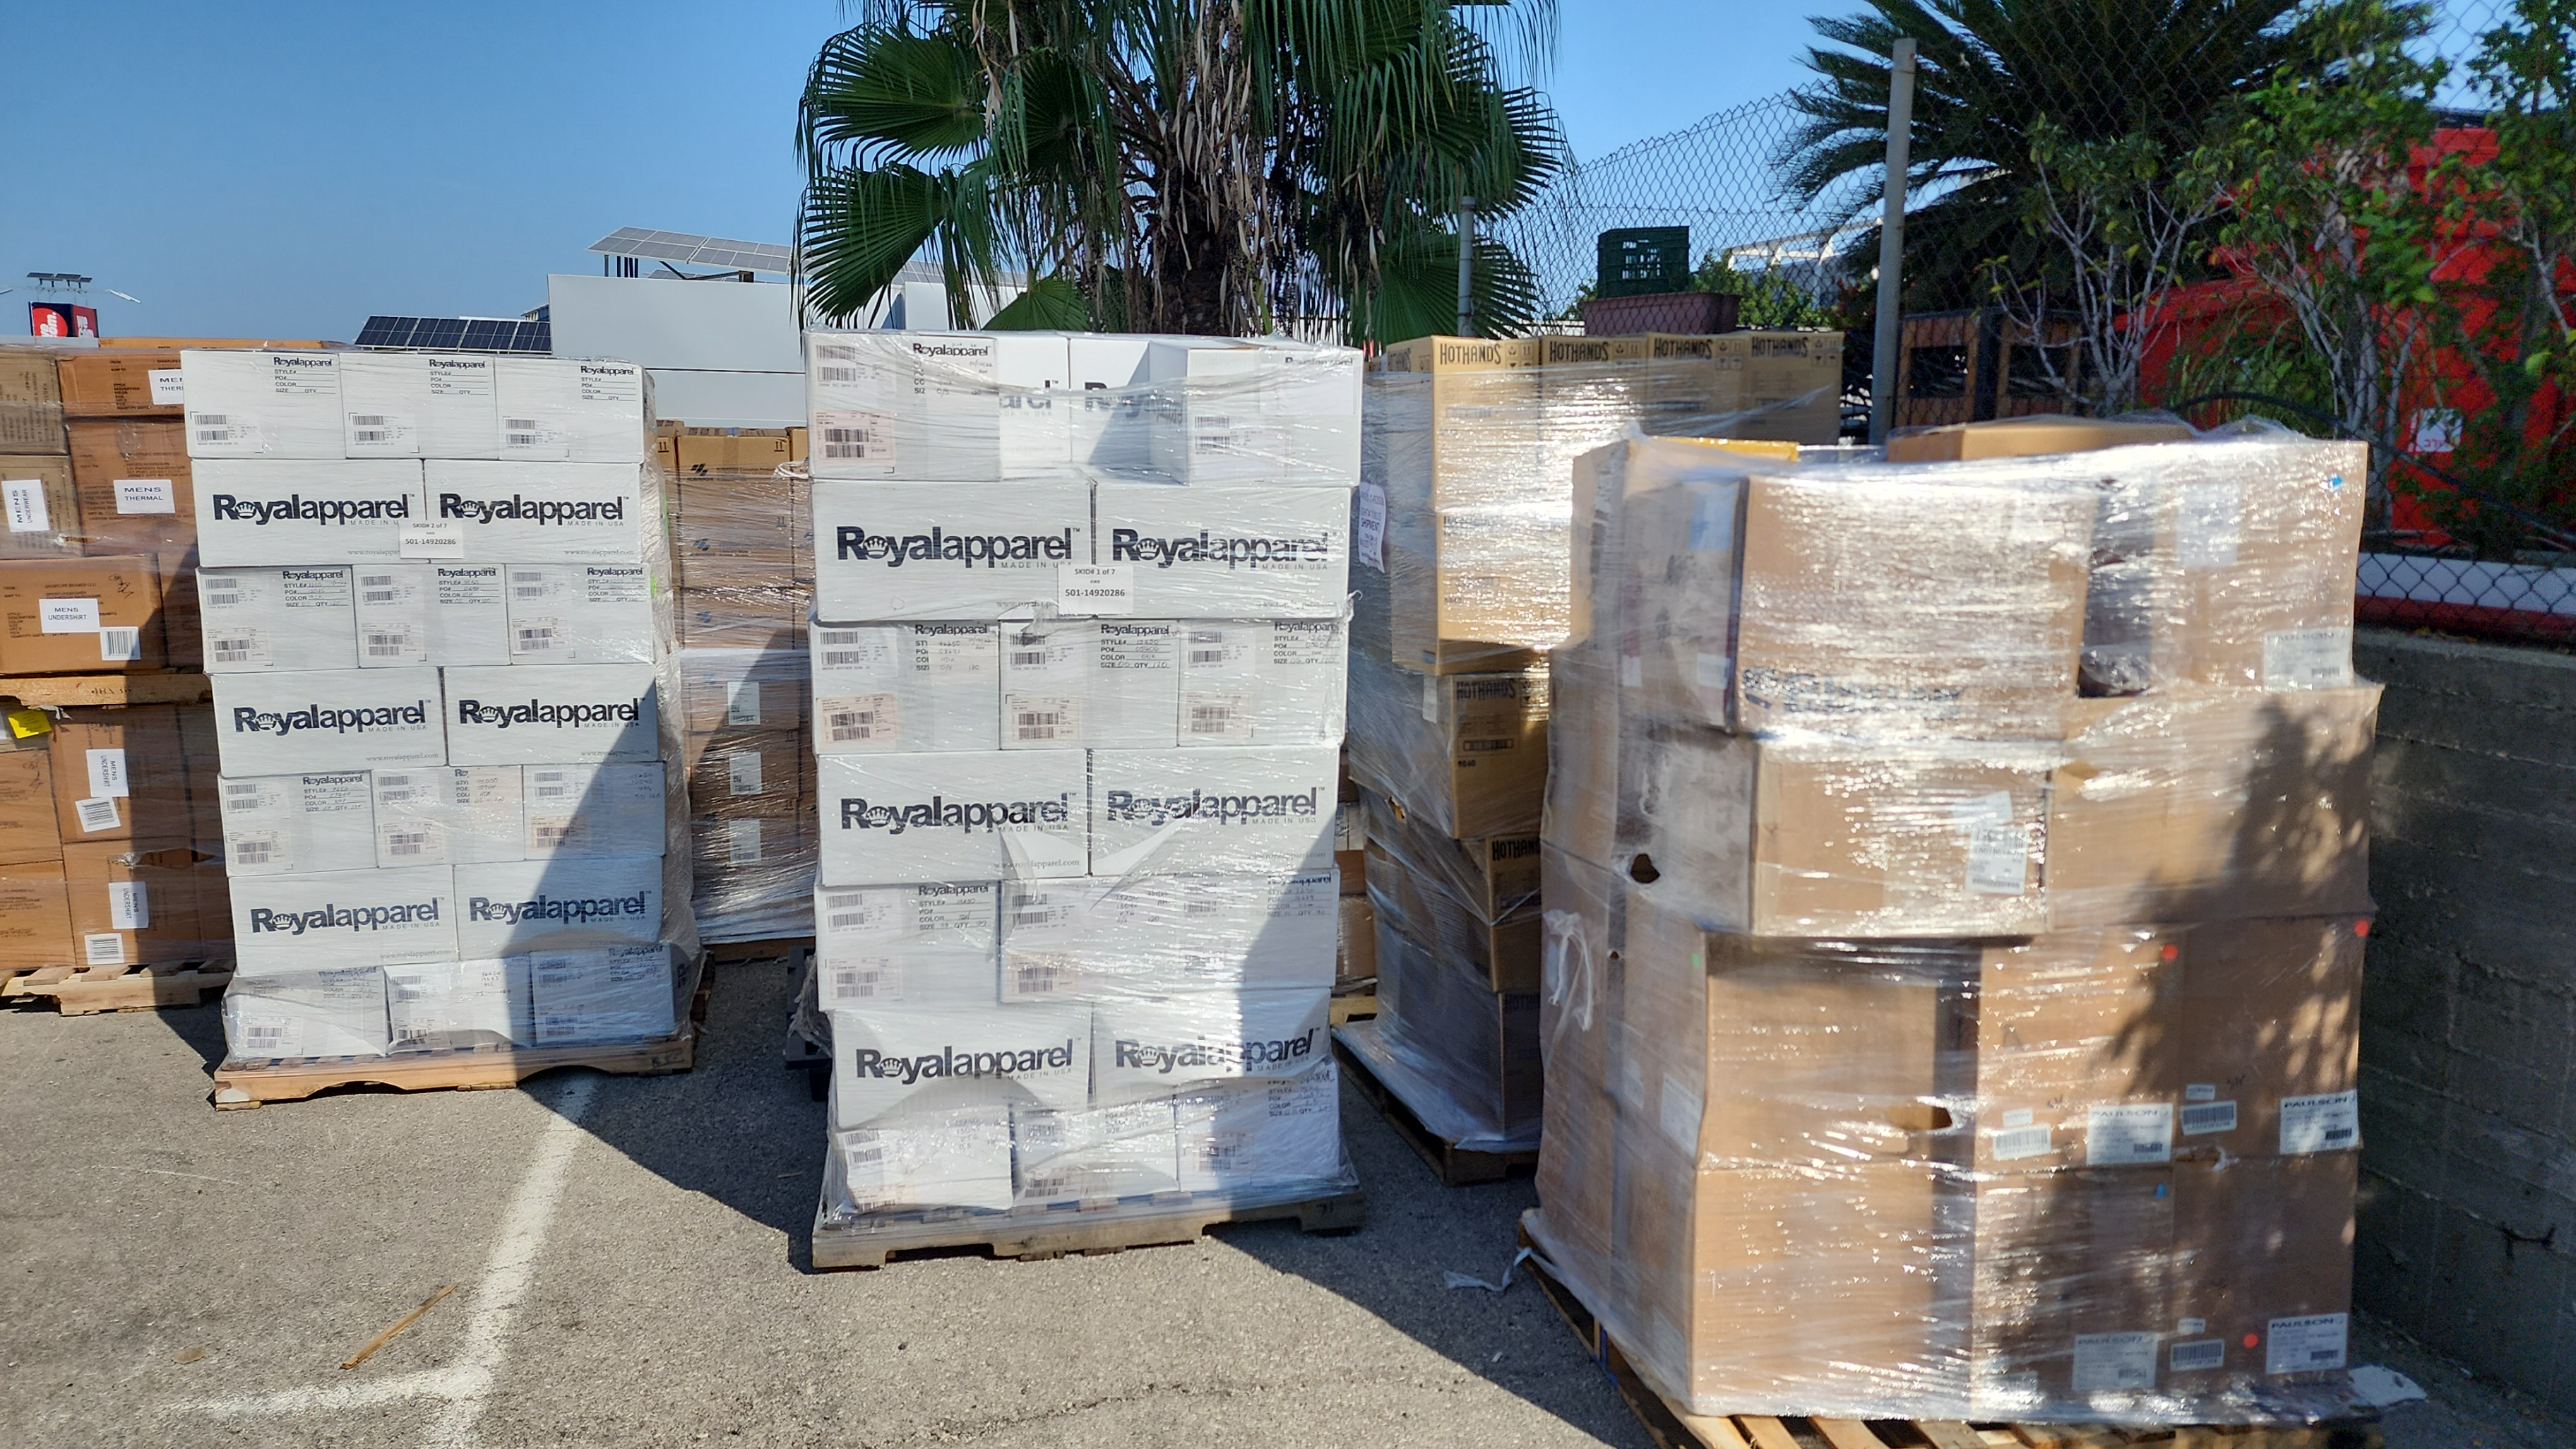box: (1629, 444, 2114, 759), (1500, 1081, 1950, 1407), (1619, 704, 2097, 977), (1621, 469, 2102, 722), (1605, 881, 1959, 1180), (1921, 1132, 2215, 1426), (766, 439, 1132, 655), (2155, 1104, 2415, 1401), (1044, 453, 1403, 651), (2123, 915, 2403, 1164), (1971, 909, 2199, 1203), (1001, 842, 1362, 1016), (782, 734, 1113, 902), (393, 619, 706, 793), (1085, 587, 1364, 771), (768, 586, 1033, 773), (193, 633, 494, 798), (110, 510, 400, 679), (761, 1067, 1047, 1235), (789, 318, 1079, 483), (1035, 957, 1364, 1100), (1062, 734, 1352, 895), (180, 419, 441, 596), (437, 750, 718, 902), (821, 994, 1123, 1132), (386, 426, 674, 570), (909, 639, 1223, 766), (189, 858, 487, 984), (1150, 317, 1338, 508), (805, 870, 1024, 1033), (140, 939, 410, 1070), (456, 534, 694, 683), (433, 830, 702, 959), (1007, 1067, 1223, 1224), (322, 959, 564, 1095), (494, 929, 717, 1074), (336, 740, 548, 892), (308, 510, 511, 667), (175, 748, 407, 885), (172, 301, 352, 472), (1177, 1047, 1375, 1203), (324, 315, 520, 471), (456, 315, 646, 471)
